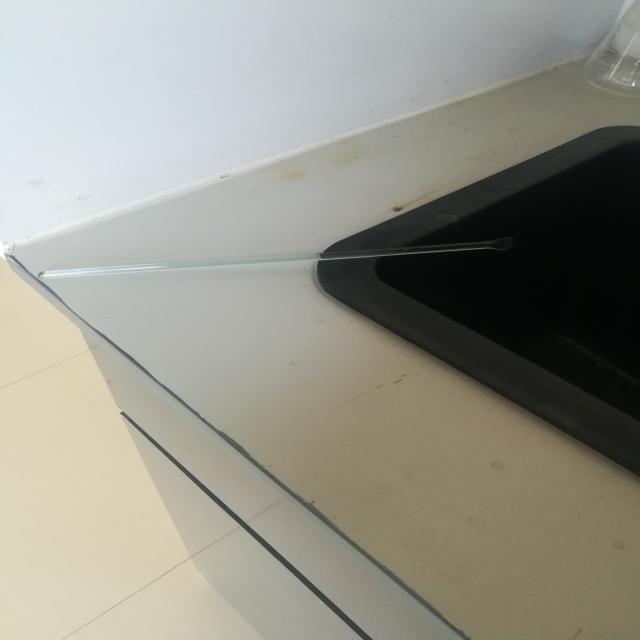Glass_Rod: (24, 220, 538, 308)
